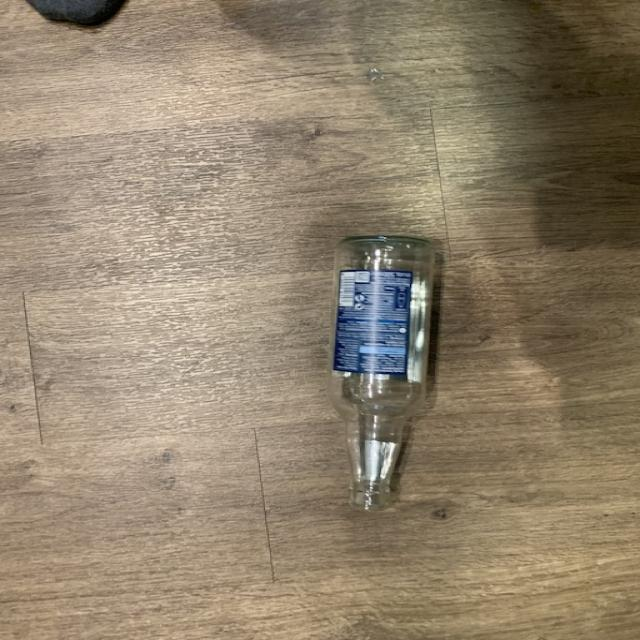litter: (329, 233, 440, 524)
